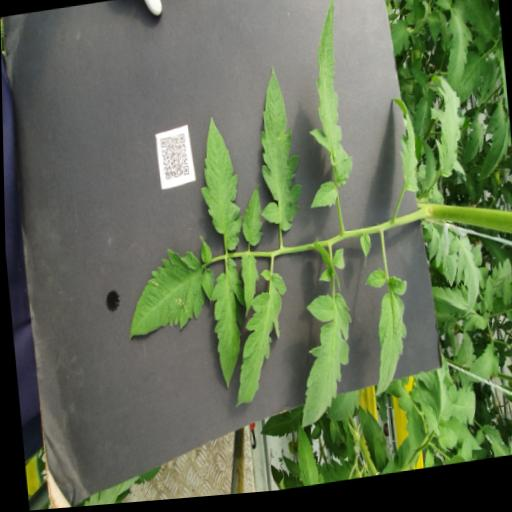Healthy: (290, 0, 356, 217), (220, 271, 293, 412), (246, 66, 305, 239), (287, 296, 358, 435), (357, 269, 414, 406), (193, 117, 242, 258), (205, 260, 251, 393), (428, 79, 465, 188), (468, 106, 512, 190), (439, 5, 476, 100), (429, 286, 487, 344), (444, 242, 480, 328), (390, 101, 419, 201), (457, 0, 502, 55), (292, 425, 321, 492), (436, 420, 480, 464), (451, 57, 484, 113), (255, 410, 304, 446), (237, 186, 263, 253), (458, 352, 498, 393), (409, 95, 439, 145), (237, 258, 260, 322), (445, 388, 475, 436), (456, 127, 486, 175), (355, 407, 378, 467), (322, 396, 359, 429), (419, 143, 439, 197), (415, 404, 437, 446), (388, 25, 411, 64), (434, 433, 457, 461), (426, 18, 443, 54), (479, 283, 492, 321), (409, 0, 425, 29), (341, 434, 354, 468), (410, 73, 428, 97), (401, 0, 422, 19), (499, 283, 511, 316), (412, 0, 435, 2)
Leaf_Miner: (118, 238, 216, 346)
